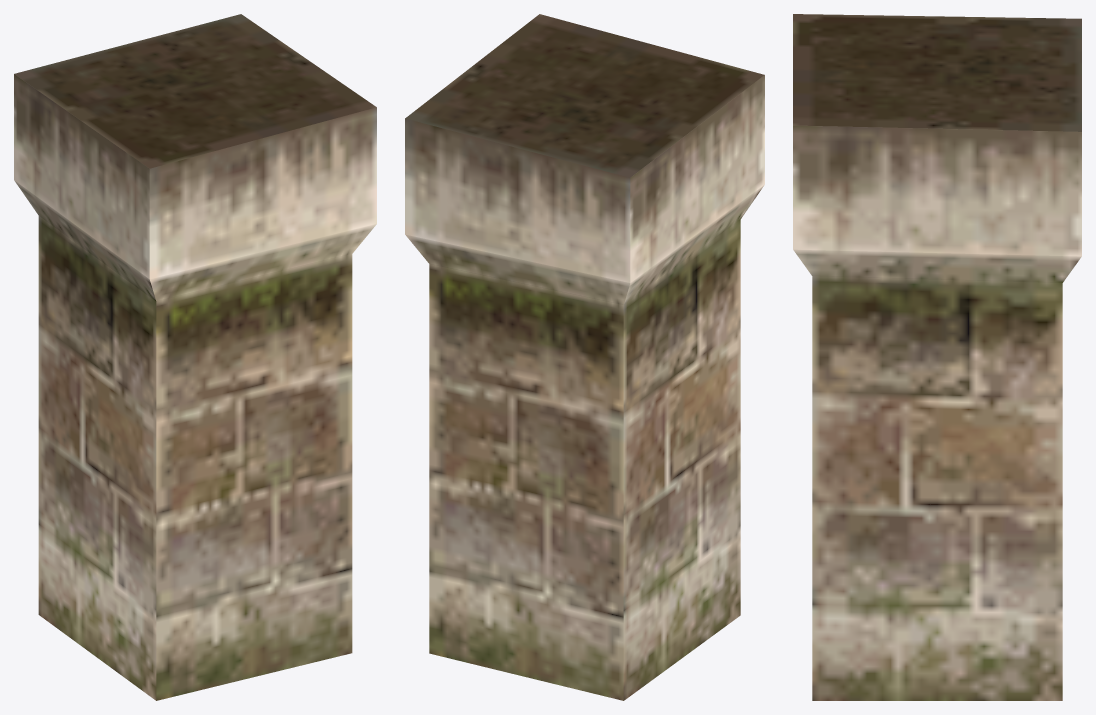
The picture shows the model from 3 angles, left to right: view 1: azimuth 30°, elevation 25°; view 2: azimuth 150°, elevation 25°; view 3: azimuth 270°, elevation 25°; orthographic projection. The views are drawn at different scales.
Visible parts, largest first — view 1: OM_26_sn_T03sw05A; view 2: OM_26_sn_T03sw05A; view 3: OM_26_sn_T03sw05A.
Boxes of the visible parts, x1,y1,x2,y2 form: OM_26_sn_T03sw05A: [14, 14, 376, 700]; OM_26_sn_T03sw05A: [405, 14, 764, 700]; OM_26_sn_T03sw05A: [793, 14, 1081, 700].
Size of the model in its own units: 0.7298 by 1.68 by 0.7551.
1 material, 1 textured.
